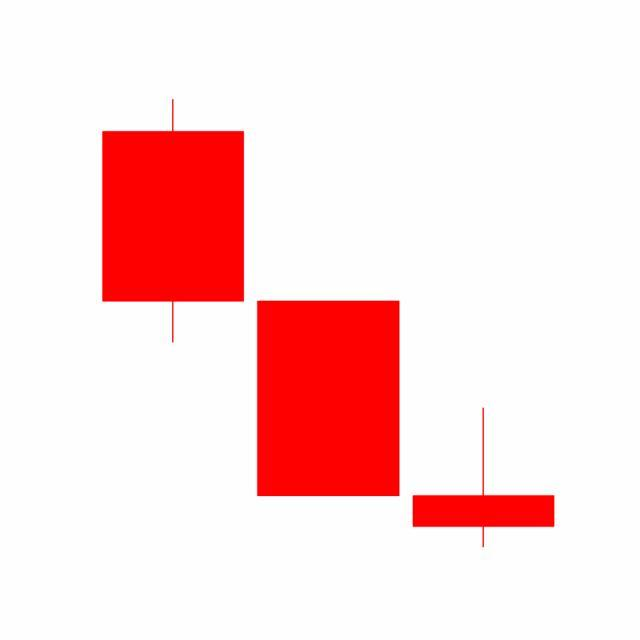Gravestone Doji: (406, 407, 562, 550)
